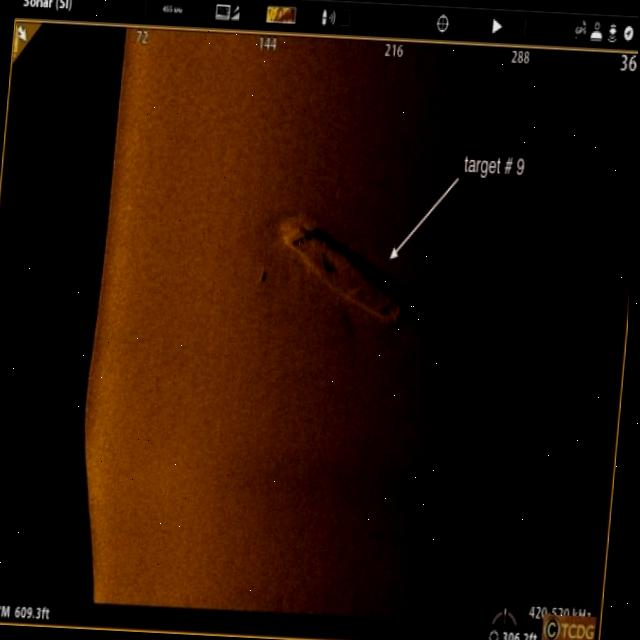shipwreck: (276, 212, 411, 326)
